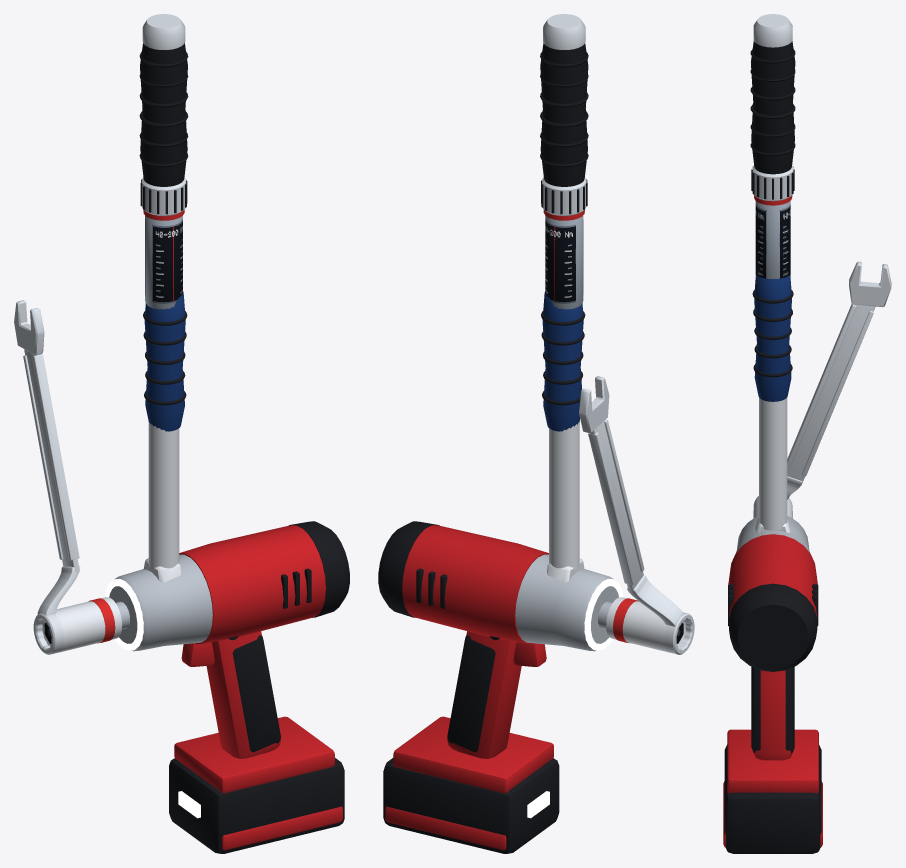
File: tools.glb
3 renders of one model, left to right at view 1: azimuth 30°, elevation 25°; view 2: azimuth 150°, elevation 25°; view 3: azimuth 270°, elevation 25°, orthographic. The views are drawn at different scales.
Visible parts, largest first — view 1: Tool_impact17_Body, Tool_torqueWrench_Body, Tool_wrench16_Body, Tool_ratchet13_Body, Tool_impact17_Socket; view 2: Tool_impact17_Body, Tool_torqueWrench_Body, Tool_wrench16_Body, Tool_ratchet13_Body, Tool_impact17_Socket; view 3: Tool_impact17_Body, Tool_torqueWrench_Body, Tool_wrench16_Body, Tool_ratchet13_Body.
Part boxes in pixels (bbox=[...]): Tool_impact17_Body: bbox=[104, 521, 349, 853]; Tool_torqueWrench_Body: bbox=[42, 14, 188, 645]; Tool_wrench16_Body: bbox=[14, 300, 80, 654]; Tool_ratchet13_Body: bbox=[42, 291, 187, 645]; Tool_impact17_Socket: bbox=[44, 597, 122, 652]; Tool_impact17_Body: bbox=[378, 521, 623, 853]; Tool_torqueWrench_Body: bbox=[540, 14, 685, 645]; Tool_wrench16_Body: bbox=[579, 376, 694, 654]; Tool_ratchet13_Body: bbox=[541, 291, 685, 645]; Tool_impact17_Socket: bbox=[606, 597, 683, 652]; Tool_impact17_Body: bbox=[723, 516, 822, 853]; Tool_torqueWrench_Body: bbox=[750, 14, 795, 532]; Tool_wrench16_Body: bbox=[753, 261, 891, 508]; Tool_ratchet13_Body: bbox=[752, 275, 793, 401].
Bounding box in the file's own units: 0.241 × 0.662 × 0.1319.
12 materials, 1 textured.
